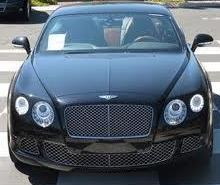front_view: (10, 86, 214, 171)
headlight: (14, 93, 57, 130)
